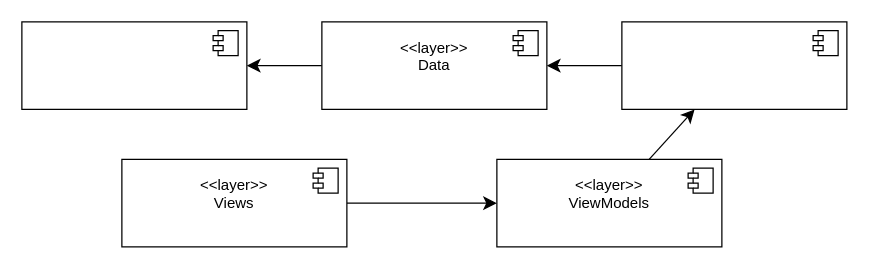
Some shapes in this 869 by 269 pixel diagram are drawn without their labels. Here are the shapes that lost their labels. From the top down, the centre of each, then its label:
the point at 134,65: <<layer>> Models
the point at 734,65: <<layer>> Services
